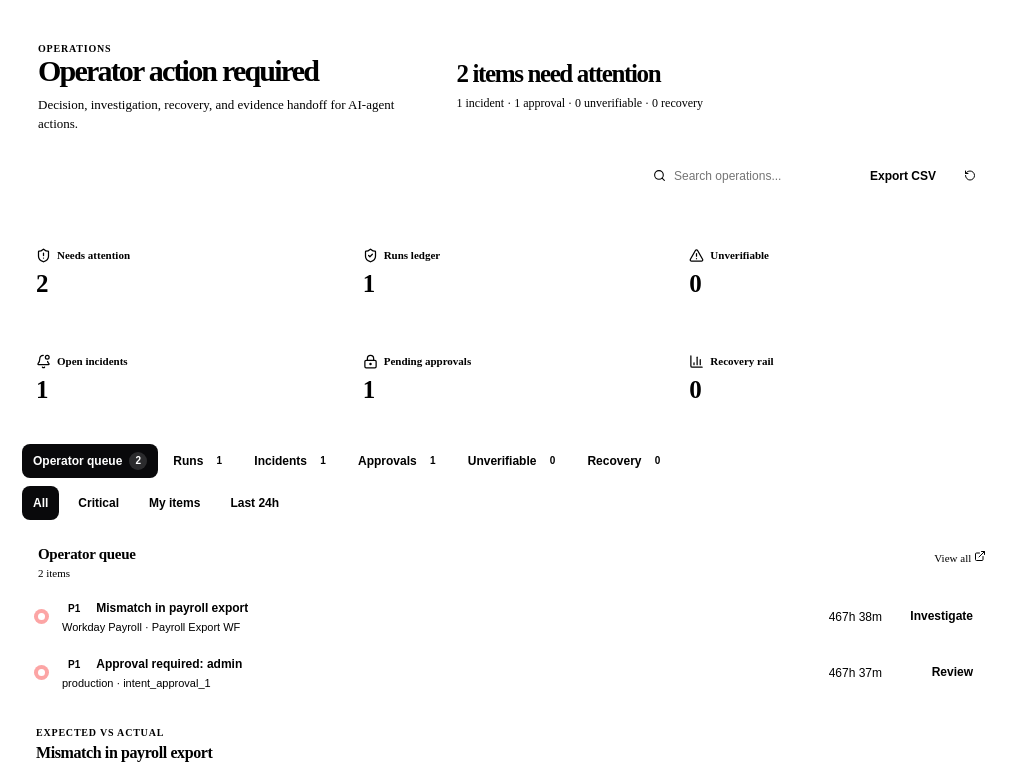
Scenario: OperationsPage › filters operation rows with local search
Type "Workday" into the field labelled "Search operations".
click(757, 176); type("Workday")  # box [672,168,842,184]
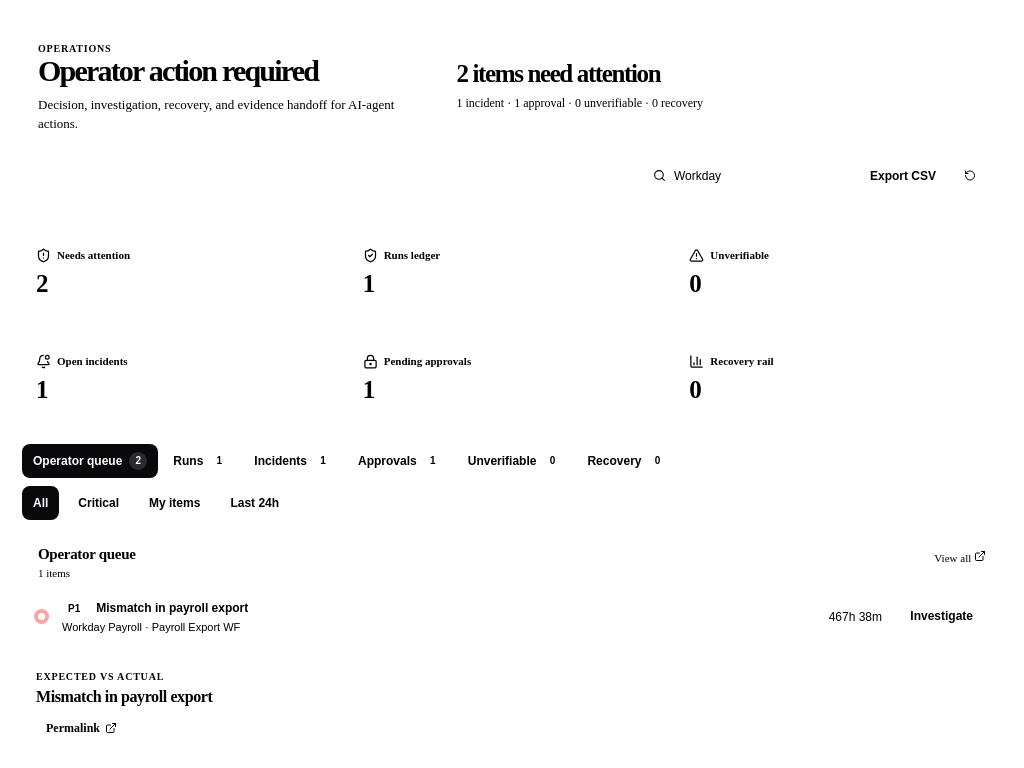
Expected: the text "Mismatch in payroll export" is shown, [96,601,248,615]
Now the button "Approval required: admin" is gone
